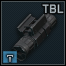NcSTAR Tactical blue laser LAM-Module: (0, 0, 66, 66)
